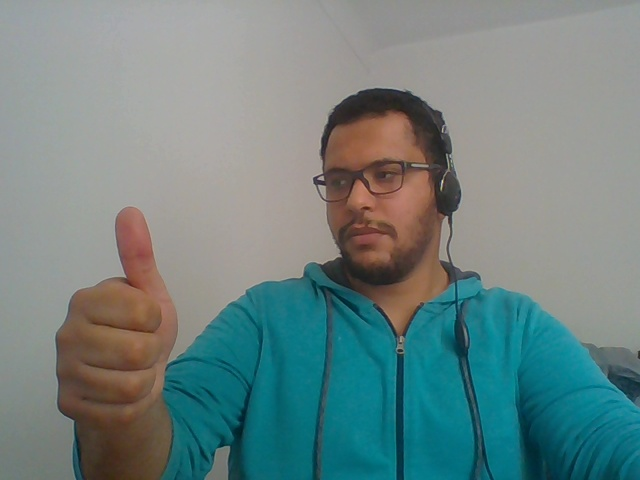ok: (41, 187, 207, 476)
